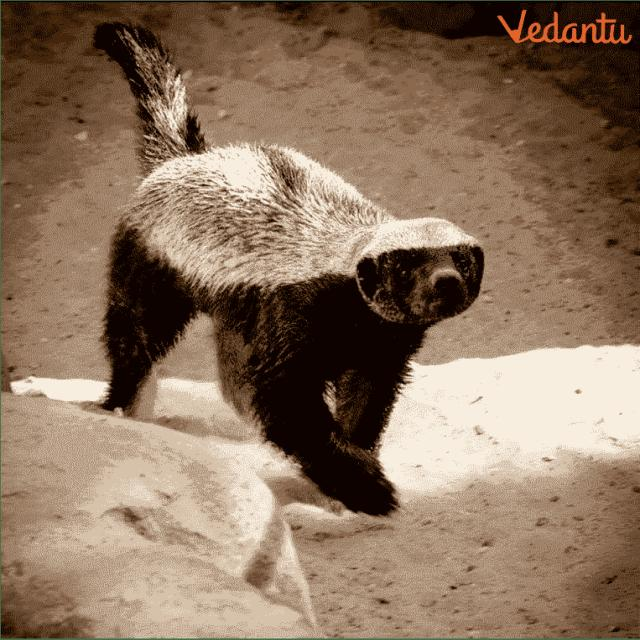Badger: (82, 21, 486, 522)
